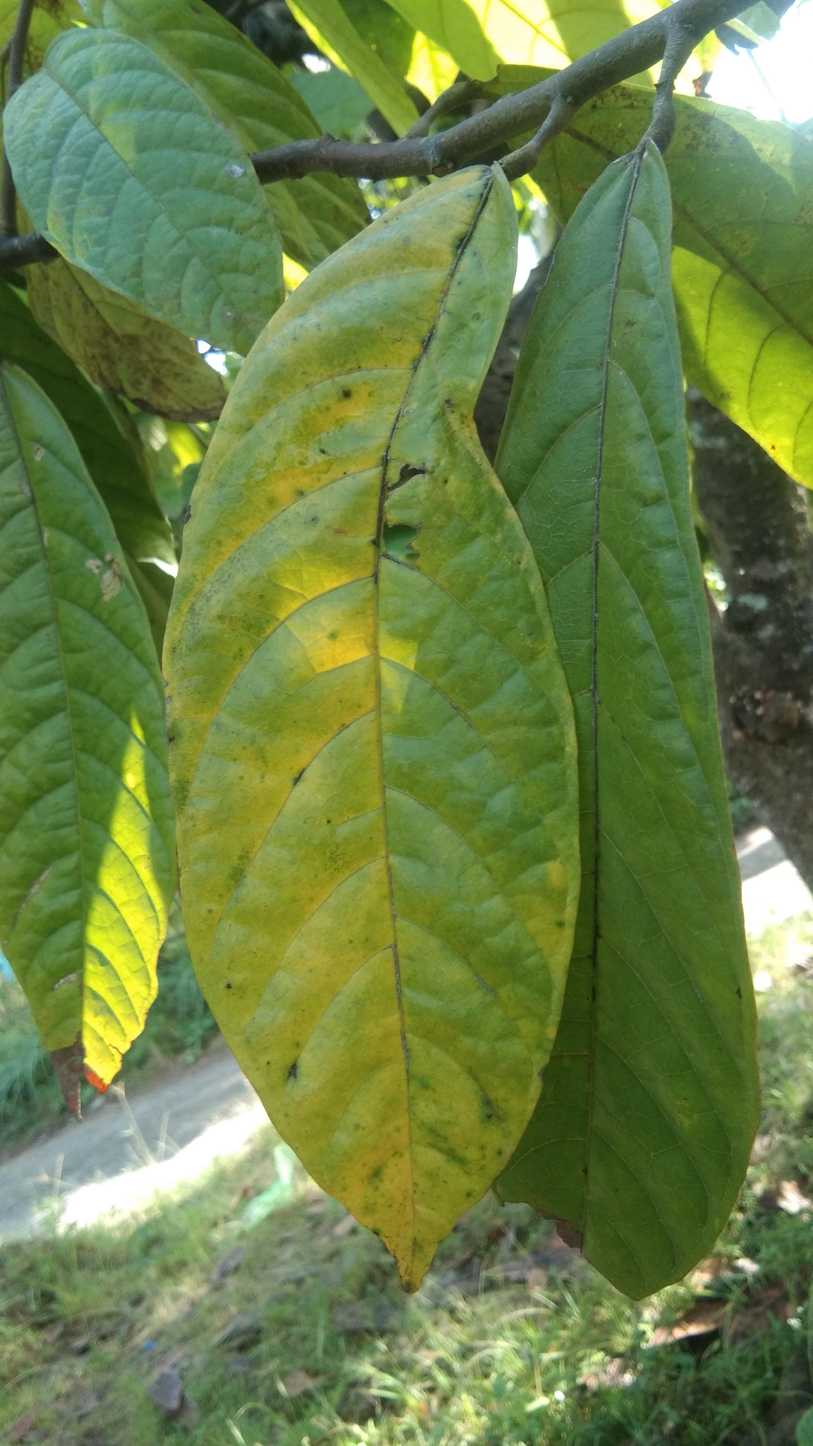deficiencia_potasio: (157, 163, 589, 1280)
